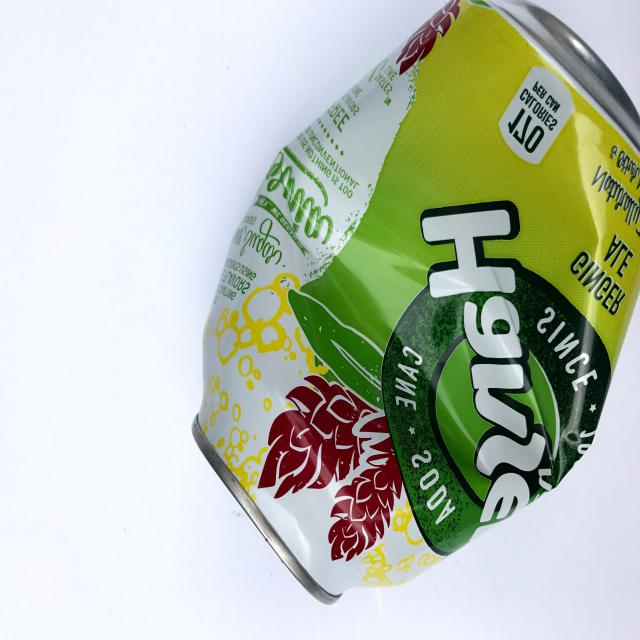metal: (191, 0, 640, 605)
